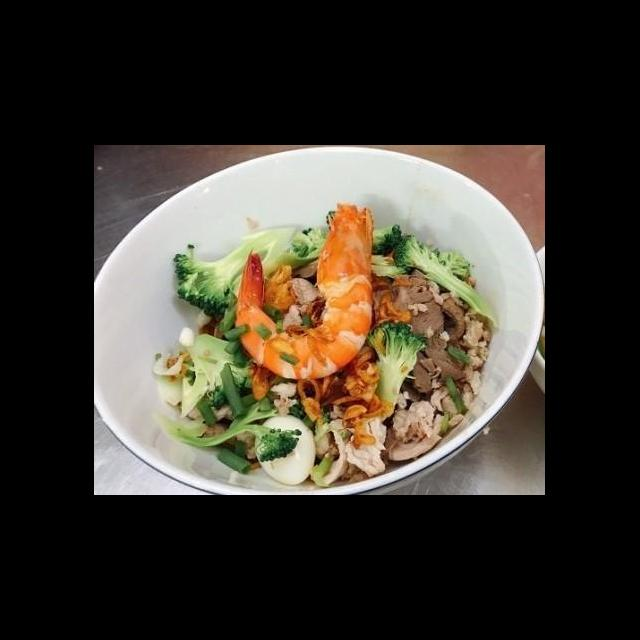thit bam: (388, 382, 476, 447), (454, 304, 501, 412)
thit heo: (388, 267, 472, 396), (310, 415, 392, 488)
tom: (232, 200, 378, 383)
trung: (252, 413, 318, 488)
